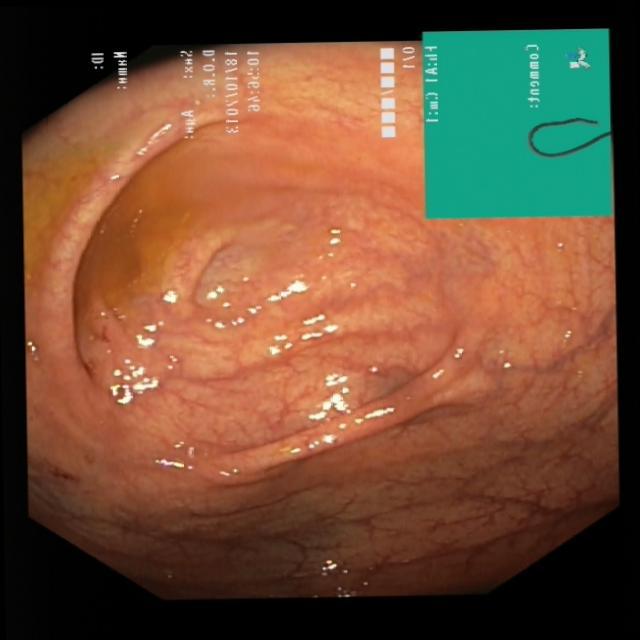normal-cecum: (17, 132, 221, 327)
